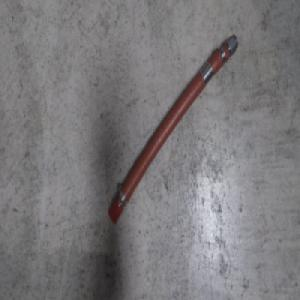Hose: (106, 29, 240, 224)
